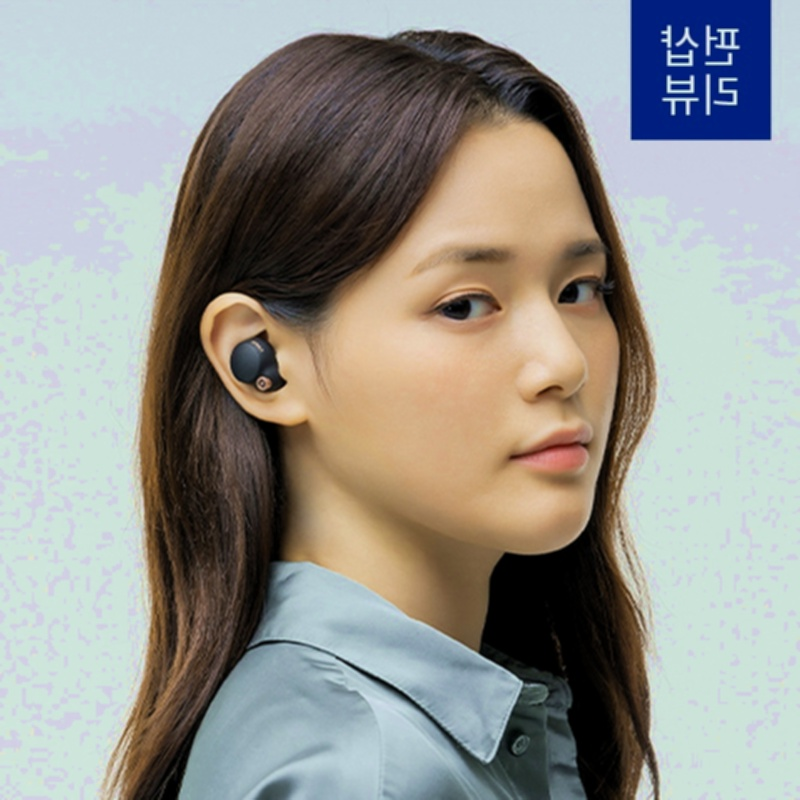earphone: (199, 293, 312, 426)
